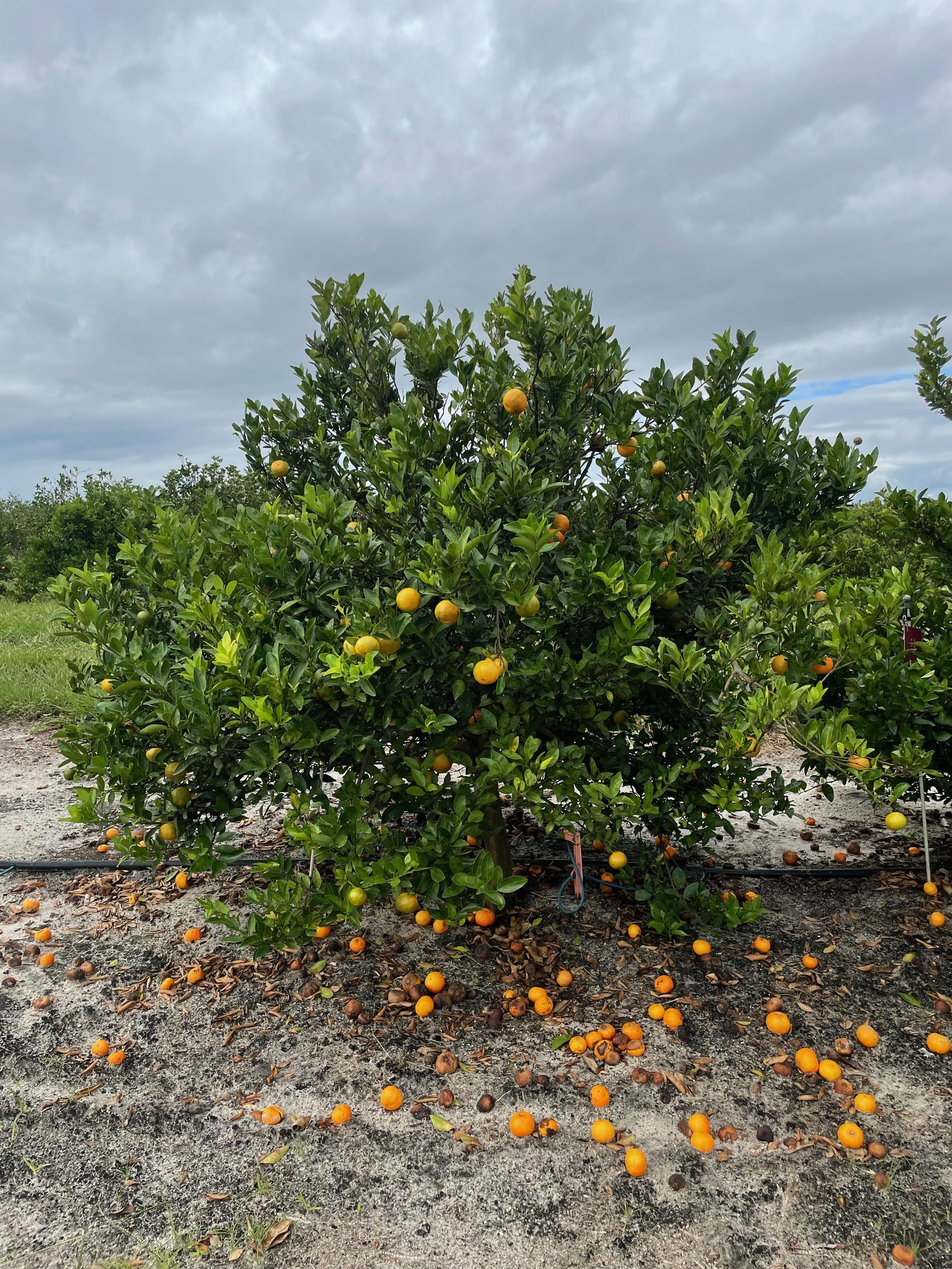fruit_on_ground: (500, 385, 530, 416), (432, 597, 463, 626), (471, 657, 501, 686), (394, 585, 423, 614), (513, 591, 542, 619), (374, 628, 402, 656), (734, 733, 763, 760), (653, 585, 682, 612), (310, 676, 338, 702), (354, 633, 381, 659), (570, 371, 599, 395), (614, 433, 641, 458), (483, 652, 509, 677), (541, 526, 567, 550), (266, 456, 292, 480), (809, 652, 835, 676), (844, 752, 871, 775), (394, 890, 419, 914), (163, 759, 189, 782), (430, 751, 454, 775), (345, 884, 369, 908), (168, 785, 193, 808), (770, 652, 793, 677), (809, 587, 833, 610), (883, 810, 908, 832), (586, 432, 609, 455), (462, 705, 486, 727), (711, 552, 735, 574), (99, 673, 123, 695), (549, 512, 572, 534), (158, 820, 180, 843), (340, 635, 362, 657), (607, 849, 629, 871), (388, 320, 410, 341), (646, 458, 668, 479), (342, 517, 365, 537), (143, 744, 166, 764), (335, 611, 357, 631), (673, 489, 695, 509), (172, 869, 192, 890), (134, 608, 154, 628), (610, 706, 630, 726), (118, 718, 138, 737), (590, 835, 607, 852), (61, 766, 79, 782), (852, 435, 864, 446)
fruit_on_tree: (837, 1120, 865, 1148), (508, 1111, 536, 1138), (624, 1147, 649, 1177), (890, 1241, 918, 1267), (378, 1084, 404, 1111), (590, 1117, 616, 1143), (433, 1049, 458, 1075), (793, 1046, 819, 1071), (855, 1023, 880, 1048), (765, 1010, 791, 1034), (816, 1057, 841, 1081), (925, 1031, 950, 1054), (341, 996, 364, 1020), (423, 968, 446, 992), (588, 1084, 611, 1108), (854, 1090, 878, 1113), (537, 1115, 560, 1138), (262, 1103, 285, 1126), (854, 1129, 879, 1150), (652, 973, 675, 995), (413, 994, 436, 1016), (531, 993, 553, 1016), (474, 906, 497, 928), (661, 1007, 683, 1030), (688, 1113, 711, 1134), (621, 1021, 644, 1042), (400, 970, 424, 990), (408, 981, 429, 1003), (692, 1131, 714, 1152), (331, 1103, 352, 1125), (867, 1139, 890, 1159), (870, 1168, 891, 1189), (89, 1037, 110, 1058), (609, 1031, 631, 1051), (593, 1039, 616, 1058), (832, 1035, 853, 1055), (513, 1066, 534, 1086), (106, 1045, 126, 1066), (385, 987, 408, 1005), (437, 1088, 457, 1108), (931, 995, 952, 1014), (603, 1048, 624, 1067), (185, 965, 206, 984), (691, 937, 712, 956), (762, 994, 784, 1012), (172, 869, 191, 889), (646, 1002, 666, 1021), (182, 925, 202, 944), (772, 1061, 794, 1078), (585, 1030, 604, 1049), (555, 968, 574, 987), (526, 984, 546, 1002), (313, 921, 333, 939), (752, 935, 772, 953), (31, 994, 52, 1011), (625, 1040, 646, 1057), (476, 1093, 494, 1112), (348, 935, 367, 953), (37, 949, 56, 967), (569, 1035, 587, 1054), (21, 896, 41, 913), (413, 909, 433, 926), (927, 909, 947, 926), (677, 1121, 695, 1139), (719, 1124, 737, 1142), (626, 921, 644, 939), (598, 1021, 617, 1038), (836, 1079, 855, 1096), (508, 1000, 527, 1017), (921, 879, 940, 896), (299, 982, 319, 998), (781, 848, 799, 865), (801, 952, 819, 969), (33, 926, 52, 942), (130, 826, 147, 843), (661, 843, 678, 860), (80, 958, 97, 975), (64, 965, 82, 981), (432, 918, 450, 934), (598, 871, 615, 887), (653, 832, 670, 848), (462, 831, 479, 847), (631, 1068, 647, 1084), (159, 975, 175, 991), (527, 861, 543, 876), (597, 881, 613, 896), (845, 839, 861, 854), (743, 888, 760, 902), (289, 958, 304, 973), (509, 939, 525, 953), (798, 827, 814, 841), (105, 826, 121, 840), (832, 848, 848, 862), (501, 987, 517, 1000), (719, 889, 735, 902), (304, 949, 318, 963), (906, 844, 921, 856), (154, 859, 167, 871), (804, 815, 817, 826), (96, 842, 109, 853), (809, 841, 822, 852)
